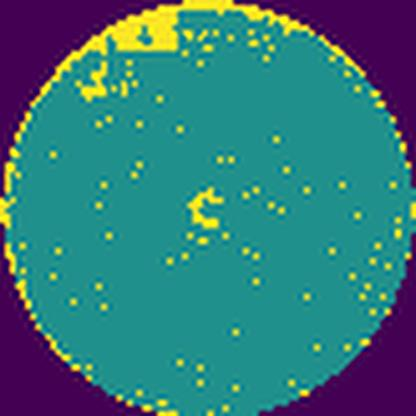Edge-Loc: (104, 0, 185, 55)
